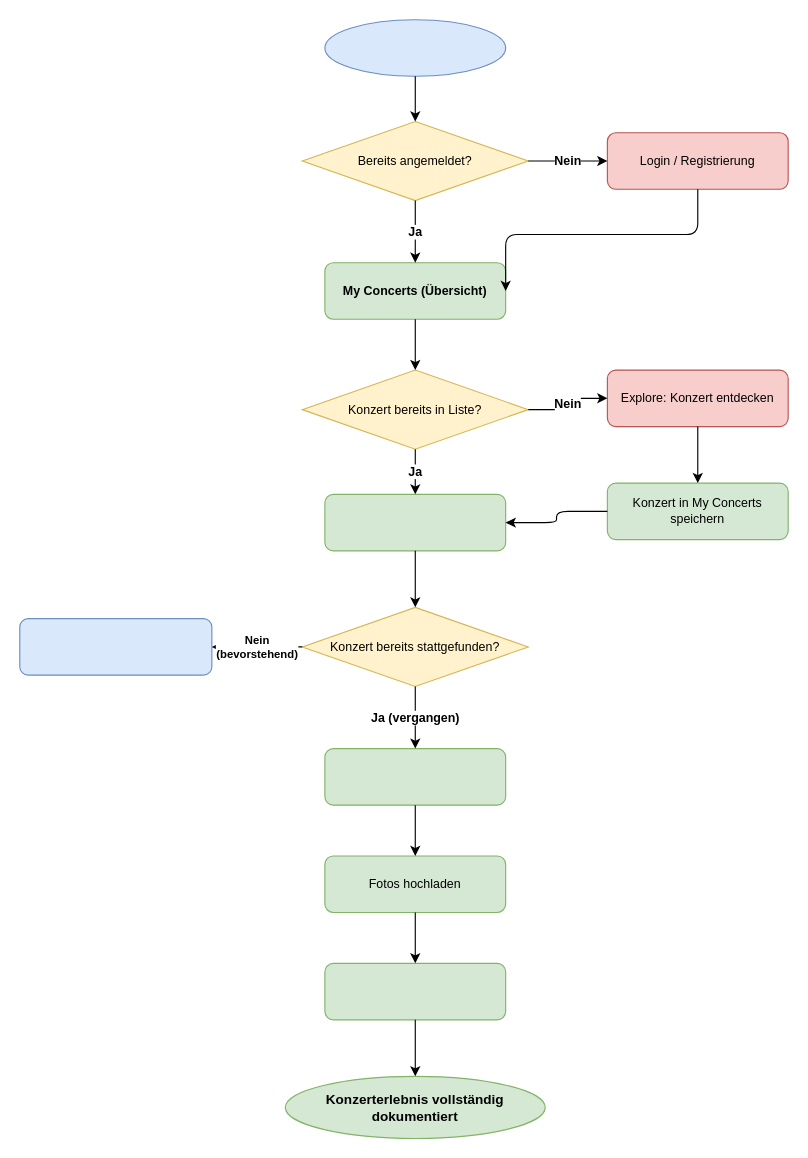
This 808x1158 diagram has some shape labels left out. The centre of each missing label's shape, as x and y in pixels:
"App öffnen" goes at pixel 415 47.
"Auf Karte / im Kalender anzeigen" goes at pixel 115 646.
"Bewertung abgeben (1–5 ★)" goes at pixel 415 776.
"Konzert-Detailansicht öffnen" goes at pixel 415 522.
"Setlist eintragen" goes at pixel 415 991.
